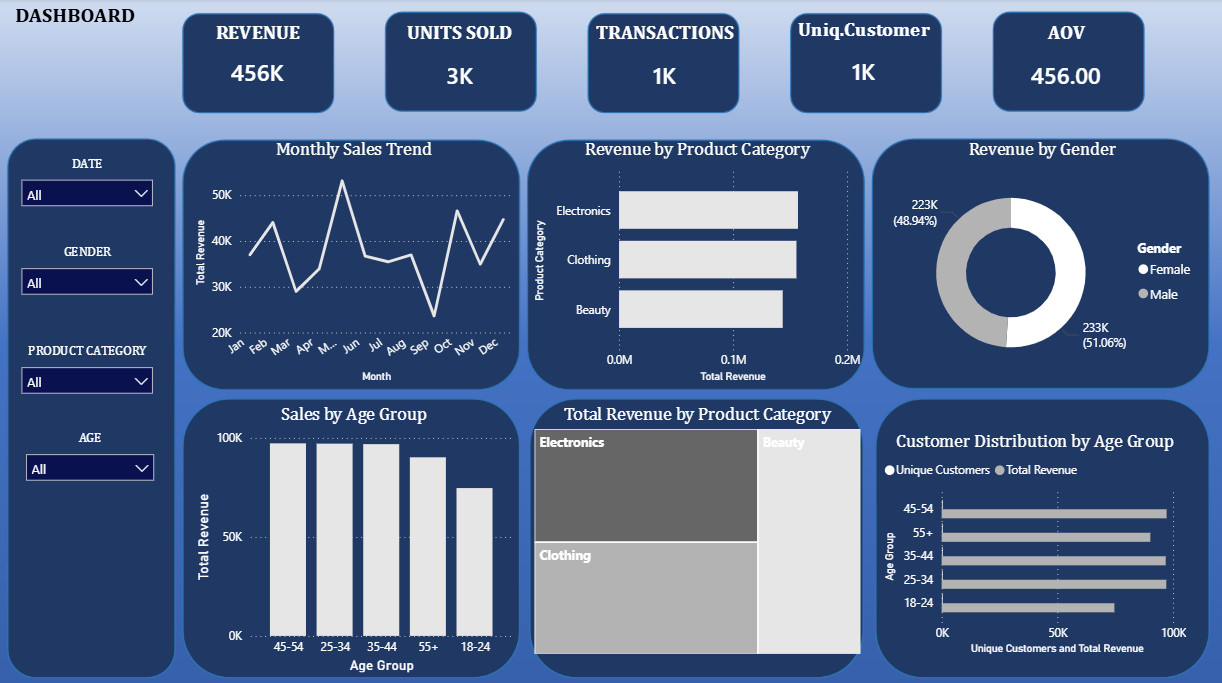

The page's visual inventory and layout, read from the dashboard file:
{"tool":"powerbi","page":{"name":"Page 1","canvas":[1280,720],"ordinal":0},"visuals":[{"type":"cardVisual","title":"REVENUE","fields":{"Data":["Measures (2).Total Revenue"]},"box":[198.4,22.7,139.8,81.3],"z":0},{"type":"cardVisual","title":"TRANSACTIONS","fields":{"Data":["Measures (2).Total Transactions"]},"box":[614.2,22.7,156.9,86.9],"z":1},{"type":"cardVisual","title":"Uniq.Customer","fields":{"Data":["Measures (2).Unique Customers"]},"box":[825.8,20.8,149.3,83.2],"z":2},{"type":"cardVisual","title":"UNITS SOLD","fields":{"Data":["Measures (2).Units Sold"]},"box":[406.3,22.7,145.5,86.9],"z":3},{"type":"cardVisual","title":"AOV","fields":{"Data":["Measures (2).AOV"]},"box":[1031.8,22.7,158.7,86.9],"z":4},{"type":"slicer","title":"DATE","fields":{"Values":["Date.Date"]},"box":[13.2,164.4,156.9,92.6],"z":5},{"type":"slicer","title":"GENDER","fields":{"Values":["Sales.Gender"]},"box":[13.2,257,156.9,102],"z":6},{"type":"slicer","title":"PRODUCT CATEGORY","fields":{"Values":["Sales.Product Category"]},"box":[13.2,359.1,156.9,90.7],"z":7},{"type":"slicer","title":"AGE","fields":{"Values":["Sales.Age Group"]},"box":[17,449.8,153.1,98.3],"z":8},{"type":"lineChart","title":"Monthly Sales Trend","fields":{"Category":["Date.Month"],"Y":["Measures (2).Total Revenue"]},"box":[198.4,145.5,340.2,258.9],"z":9},{"type":"barChart","title":"Revenue by Product Category","fields":{"Y":["Measures (2).Total Revenue"],"Category":["Product Table.Product Category"]},"box":[551.8,145.5,349.6,258.9],"z":10},{"type":"donutChart","title":"Revenue by Gender","fields":{"Category":["Sales.Gender"],"Y":["Measures (2).Total Revenue"]},"box":[916.5,145.5,340.2,258.9],"z":11},{"type":"columnChart","title":"Sales by Age Group","fields":{"Y":["Measures (2).Total Revenue"],"Category":["Sales.Age Group"]},"box":[198.4,421.4,340.2,285.4],"z":12},{"type":"treemap","fields":{"Group":["Product Table.Product Category"],"Values":["Measures (2).Total Revenue"]},"box":[551.8,421.4,349.6,266.5],"z":13},{"type":"textbox","box":[0,0,156.9,149.3],"z":14},{"type":"clusteredBarChart","title":"Customer Distribution by Age Group","fields":{"Category":["Sales.Age Group"],"Y":["Measures (2).Unique Customers","Measures (2).Total Revenue"]},"box":[916.5,449.8,325,238.1],"z":15}]}

Visuals, with their boxes in screenshot pixels (x1, y1, x2, y2), scaled from the page's 1280x720 canvas onto the 1222x683 screenshot:
"REVENUE" cardVisual: bbox=[189, 22, 323, 99]
"TRANSACTIONS" cardVisual: bbox=[586, 22, 736, 104]
"Uniq.Customer" cardVisual: bbox=[788, 20, 931, 99]
"UNITS SOLD" cardVisual: bbox=[388, 22, 527, 104]
"AOV" cardVisual: bbox=[985, 22, 1137, 104]
"DATE" slicer: bbox=[13, 156, 162, 244]
"GENDER" slicer: bbox=[13, 244, 162, 341]
"PRODUCT CATEGORY" slicer: bbox=[13, 341, 162, 427]
"AGE" slicer: bbox=[16, 427, 162, 520]
"Monthly Sales Trend" lineChart: bbox=[189, 138, 514, 384]
"Revenue by Product Category" barChart: bbox=[527, 138, 861, 384]
"Revenue by Gender" donutChart: bbox=[875, 138, 1200, 384]
"Sales by Age Group" columnChart: bbox=[189, 400, 514, 670]
treemap - Product Table.Product Category x Measures (2).Total Revenue: bbox=[527, 400, 861, 653]
textbox: bbox=[0, 0, 150, 142]
"Customer Distribution by Age Group" clusteredBarChart: bbox=[875, 427, 1185, 653]
